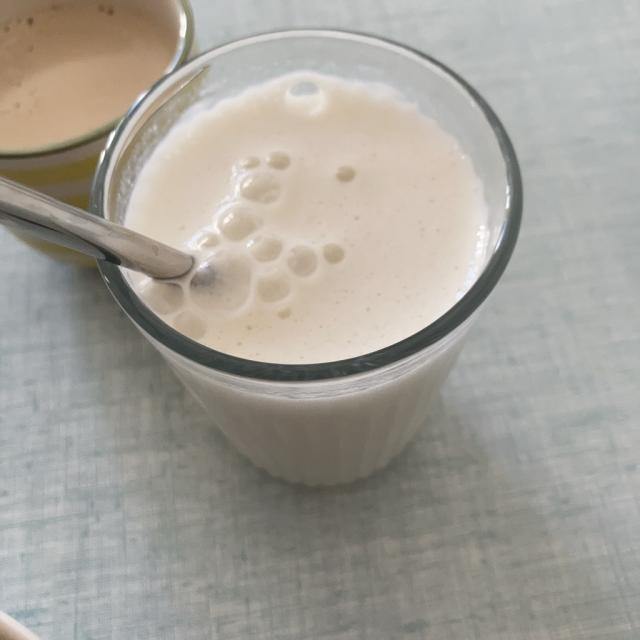smoothie: (100, 78, 479, 499)
